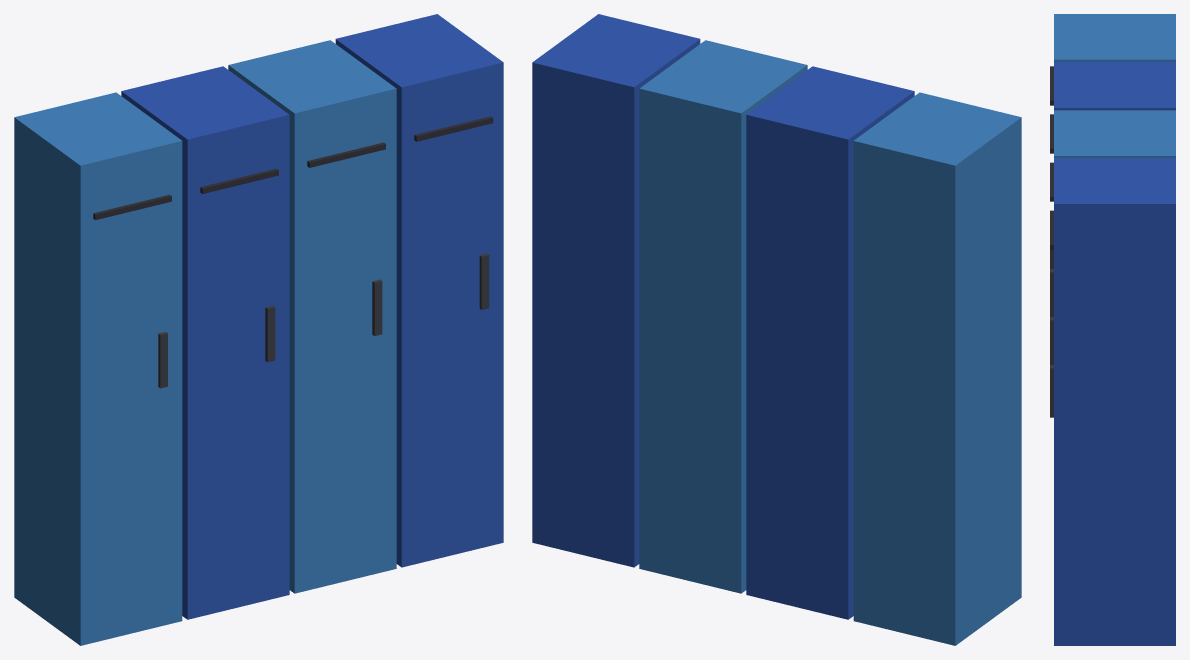
File: locker_row.glb
The picture shows the model from 3 angles, left to right: view 1: azimuth 30°, elevation 25°; view 2: azimuth 150°, elevation 25°; view 3: azimuth 270°, elevation 25°; orthographic projection. The views are drawn at different scales.
Visible parts, largest first — view 1: locker_row; view 2: locker_row; view 3: locker_row.
Boxes of the visible parts, x1,y1,x2,y2 form: locker_row: [14, 14, 503, 645]; locker_row: [532, 14, 1021, 645]; locker_row: [1050, 14, 1175, 645].
Size of the model in its own units: 1.66 by 1.8 by 0.465.
